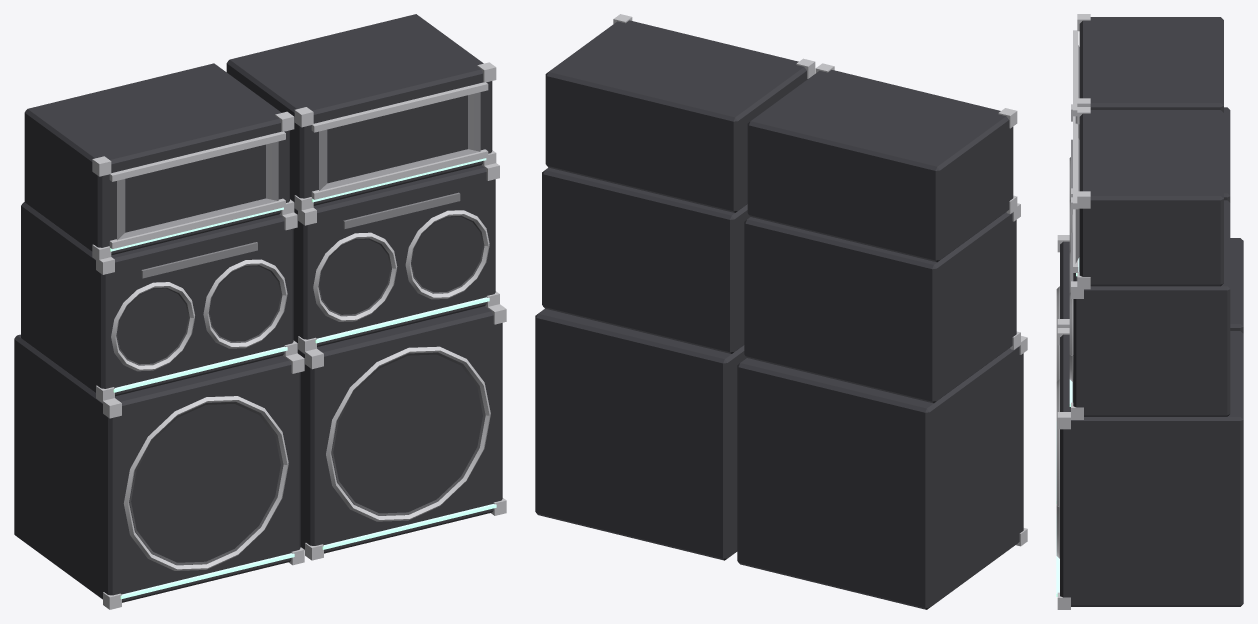
The model's file is prop_speaker_stack.glb.
3 views of the same model, side by side, from view 1: azimuth 30°, elevation 25°; view 2: azimuth 150°, elevation 25°; view 3: azimuth 270°, elevation 25° (orthographic). The views are drawn at different scales.
Parts seen in each view (by area): view 1: SpeakerStack; view 2: SpeakerStack; view 3: SpeakerStack.
Part boxes in pixels (<box>): SpeakerStack: <box>14,14,506,609</box>; SpeakerStack: <box>535,14,1027,609</box>; SpeakerStack: <box>1056,14,1243,609</box>.
Size of the model in its own units: 1.65 by 1.74 by 0.714.
